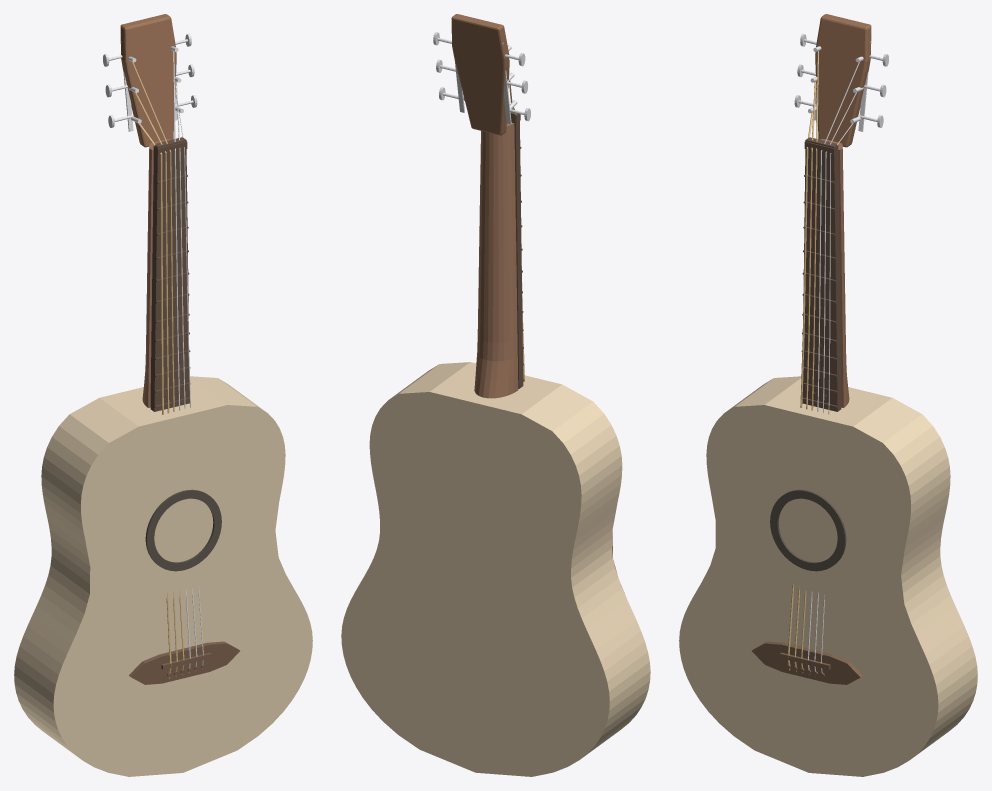
3 views of the same model, side by side, from view 1: azimuth 30°, elevation 25°; view 2: azimuth 150°, elevation 25°; view 3: azimuth 330°, elevation 25° (orthographic). The views are drawn at different scales.
Visible parts, largest first — view 1: GuitarBody, Fretboard, Headstock, Bridge, SoundHoleRosette, GuitarNeck, GuitarStrings_0, GuitarStrings_1, GuitarStrings_2, GuitarStrings_3, GuitarStrings_4, GuitarStrings_5; view 2: GuitarBody, GuitarNeck, Headstock, Fretboard; view 3: GuitarBody, Fretboard, Headstock, Bridge, SoundHoleRosette, GuitarNeck, GuitarStrings_0, GuitarStrings_2, GuitarStrings_1, GuitarStrings_3, GuitarStrings_4, GuitarStrings_5.
Boxes of the visible parts, bbox=[...] form: GuitarBody: bbox=[14, 376, 312, 776]; Fretboard: bbox=[150, 137, 190, 411]; Headstock: bbox=[120, 14, 176, 147]; Bridge: bbox=[129, 641, 239, 684]; SoundHoleRosette: bbox=[145, 489, 221, 571]; GuitarNeck: bbox=[142, 139, 171, 407]; GuitarStrings_0: bbox=[138, 123, 171, 678]; GuitarStrings_1: bbox=[134, 92, 177, 676]; GuitarStrings_2: bbox=[132, 62, 184, 674]; GuitarStrings_3: bbox=[173, 51, 190, 672]; GuitarStrings_4: bbox=[176, 81, 197, 670]; GuitarStrings_5: bbox=[179, 112, 203, 668]; GuitarBody: bbox=[341, 362, 650, 776]; GuitarNeck: bbox=[474, 123, 518, 398]; Headstock: bbox=[451, 14, 509, 135]; Fretboard: bbox=[510, 112, 524, 388]; GuitarBody: bbox=[679, 376, 977, 776]; Fretboard: bbox=[801, 137, 841, 411]; Headstock: bbox=[815, 14, 871, 147]; Bridge: bbox=[752, 641, 862, 684]; SoundHoleRosette: bbox=[770, 489, 846, 571]; GuitarNeck: bbox=[820, 139, 849, 407]; GuitarStrings_0: bbox=[787, 112, 812, 670]; GuitarStrings_2: bbox=[801, 51, 818, 673]; GuitarStrings_1: bbox=[794, 81, 816, 671]; GuitarStrings_3: bbox=[807, 62, 859, 674]; GuitarStrings_4: bbox=[814, 92, 856, 671]; GuitarStrings_5: bbox=[821, 123, 853, 672].
Size of the model in its own units: 0.38 by 1.01 by 0.1128.
